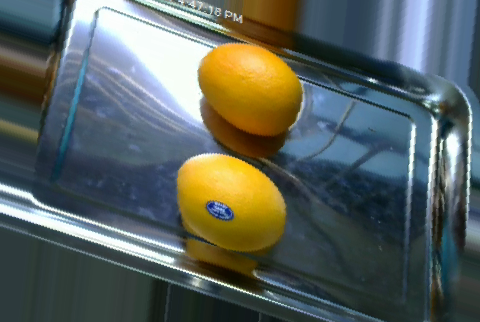Orange: (173, 150, 286, 251), (198, 41, 303, 136)
